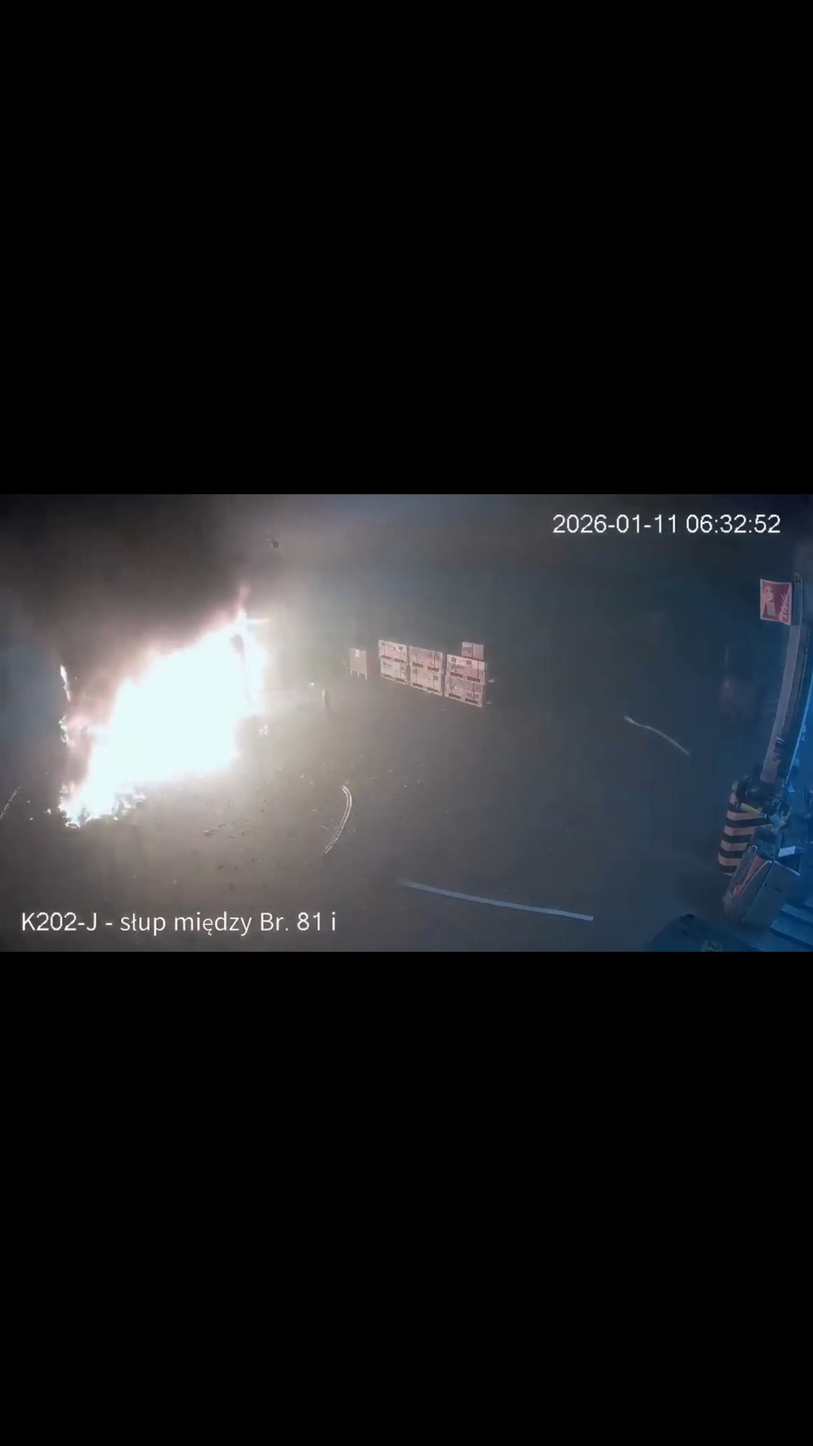fire: (57, 592, 274, 830)
smoke: (1, 496, 534, 706)
